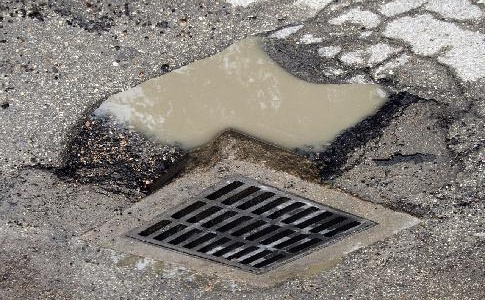pothole: (51, 33, 417, 200)
